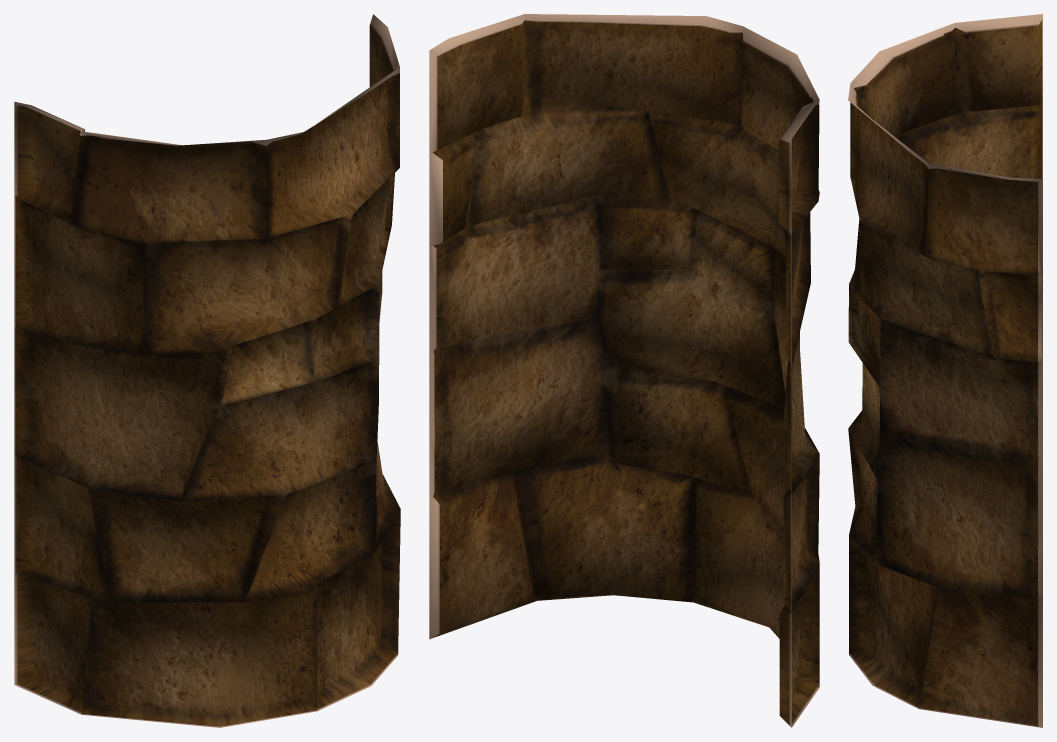
The model's file is WallBend.fbx.
3 renders of one model, left to right at view 1: azimuth 30°, elevation 25°; view 2: azimuth 150°, elevation 25°; view 3: azimuth 270°, elevation 25°, orthographic. The views are drawn at different scales.
Parts seen in each view (by area): view 1: WallBend; view 2: WallBend; view 3: WallBend.
Boxes of the visible parts, x1,y1,x2,y2 form: WallBend: (14,14,400,727); WallBend: (429,14,819,727); WallBend: (848,14,1042,727).
Bounding box in the file's own units: 129 × 200 × 64.35.
